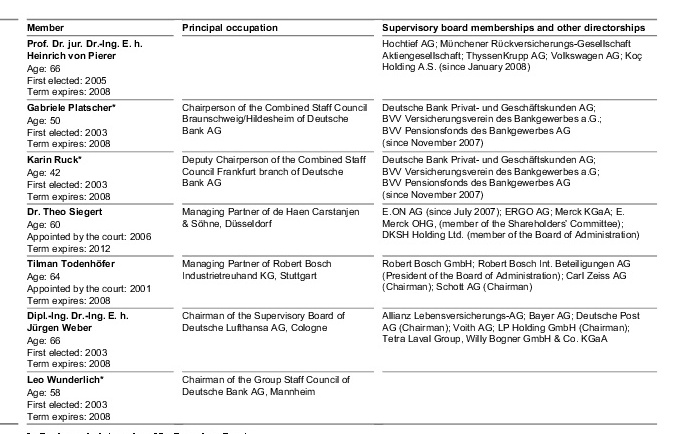table: (0, 0, 675, 434)
